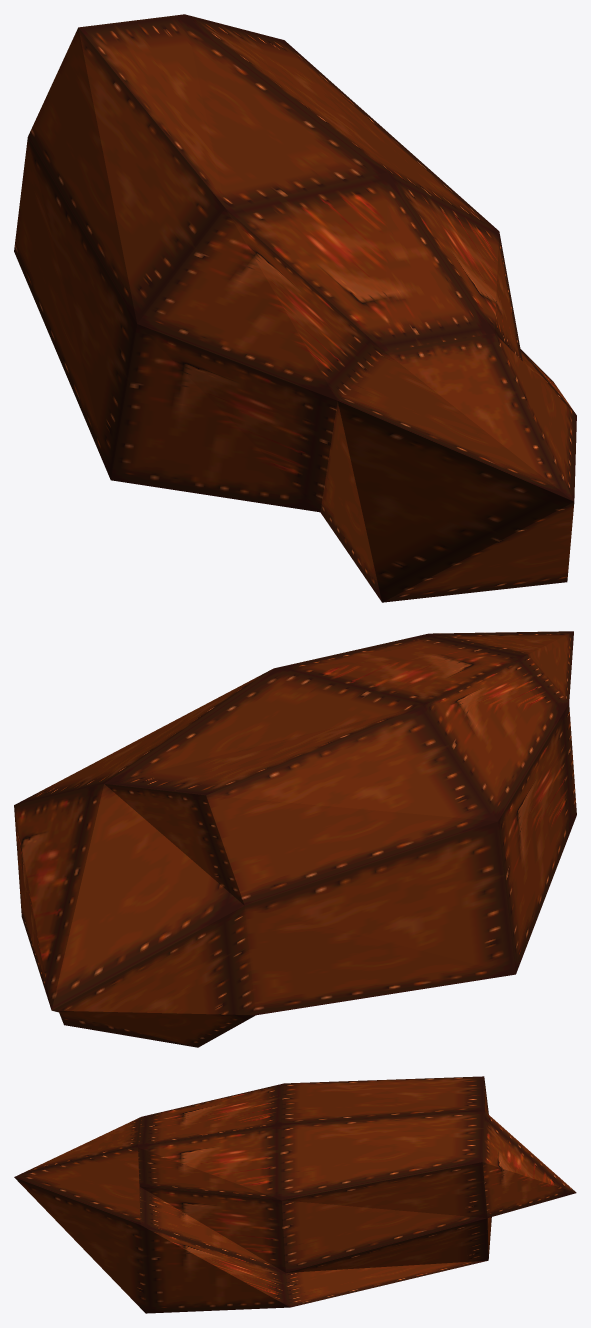
File: ZeppelinHalleTeil_Wrack_839.glb
3 renders of one model, top to bottom at view 1: azimuth 30°, elevation 25°; view 2: azimuth 150°, elevation 25°; view 3: azimuth 270°, elevation 25°, orthographic. The views are drawn at different scales.
Visible parts, largest first — view 1: pCubeShape20; view 2: pCubeShape20; view 3: pCubeShape20.
Boxes of the visible parts, <box> form: pCubeShape20: <box>14,14,576,602</box>; pCubeShape20: <box>14,631,576,1047</box>; pCubeShape20: <box>14,1076,576,1313</box>.
Size of the model in its own units: 1.69 by 1.33 by 3.52.
Materials: 1 (1 with a texture image).
